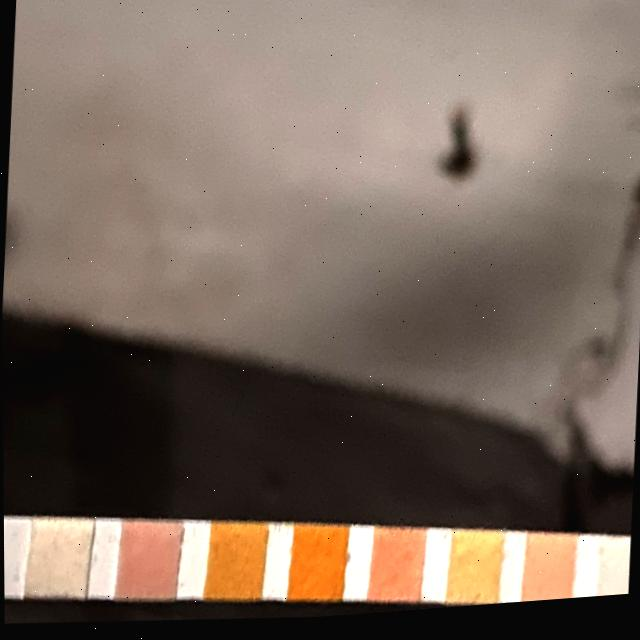Bilirubin: (27, 519, 89, 598)
Blood: (289, 532, 344, 601)
Ketone: (118, 523, 177, 601)
Nitrite: (594, 546, 630, 606)
Protein: (449, 541, 501, 609)
SpGravity: (208, 527, 263, 600)
Urobilinogen: (525, 540, 573, 609)
pH: (370, 537, 420, 605)
